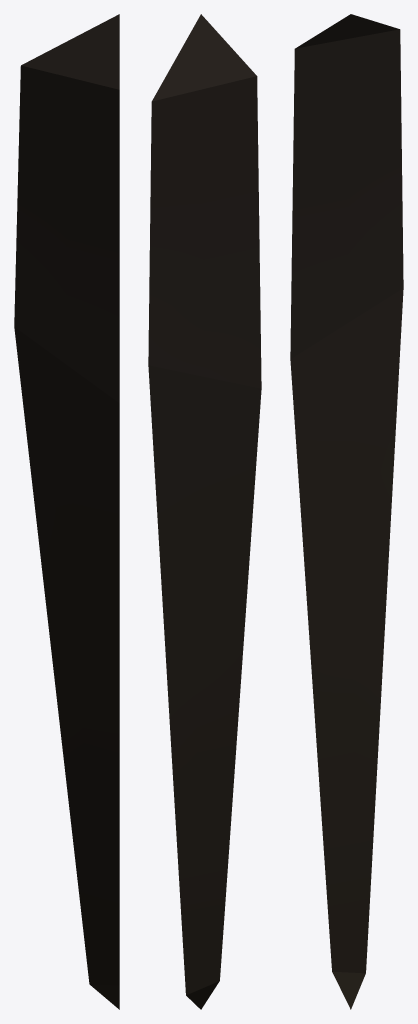
3 views of the same model, side by side, from view 1: azimuth 90°, elevation 25°; view 2: azimuth 150°, elevation 25°; view 3: azimuth 330°, elevation 25° (orthographic).
Size of the model in its own units: 0.00356 by 0.0559 by 0.00537.
1 material, 1 textured.
